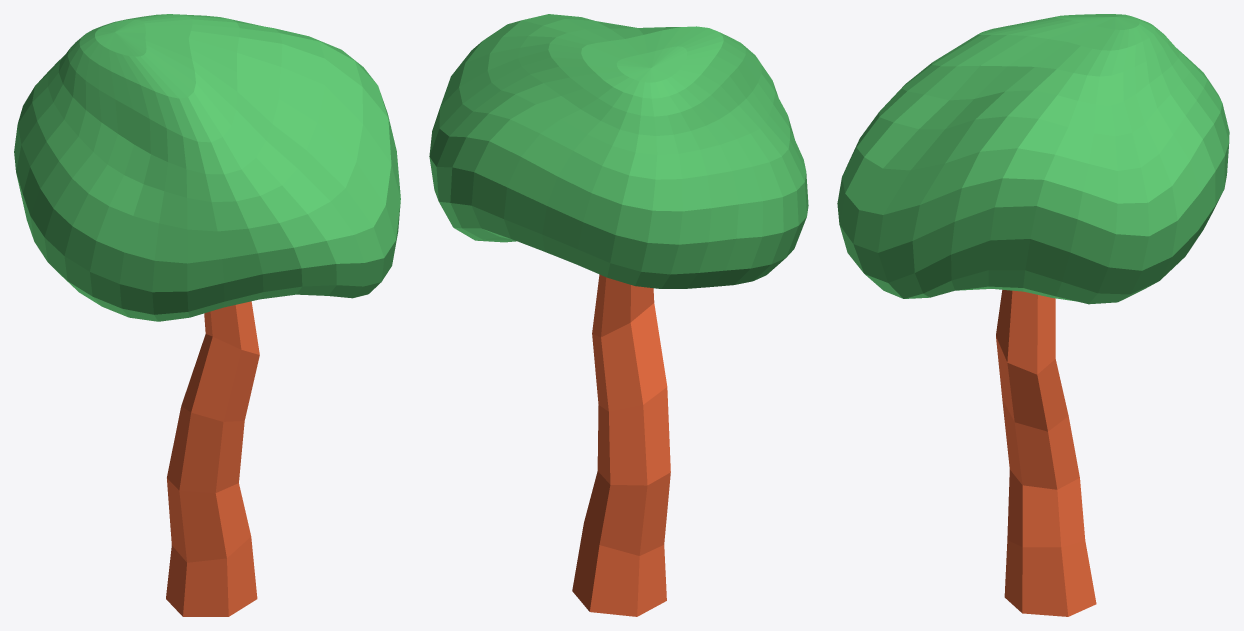
File: Tree05.fbx
3 views of the same model, side by side, from view 1: azimuth 30°, elevation 25°; view 2: azimuth 150°, elevation 25°; view 3: azimuth 270°, elevation 25° (orthographic). The views are drawn at different scales.
Visible parts, largest first — view 1: Sphere.004; view 2: Sphere.004; view 3: Sphere.004.
Part boxes in pixels (box(x1,y1,x2,y2)): Sphere.004: box(14, 14, 400, 616); Sphere.004: box(429, 14, 808, 616); Sphere.004: box(837, 14, 1229, 616).
Bounding box in the file's own units: 2079 × 3477 × 2218.
